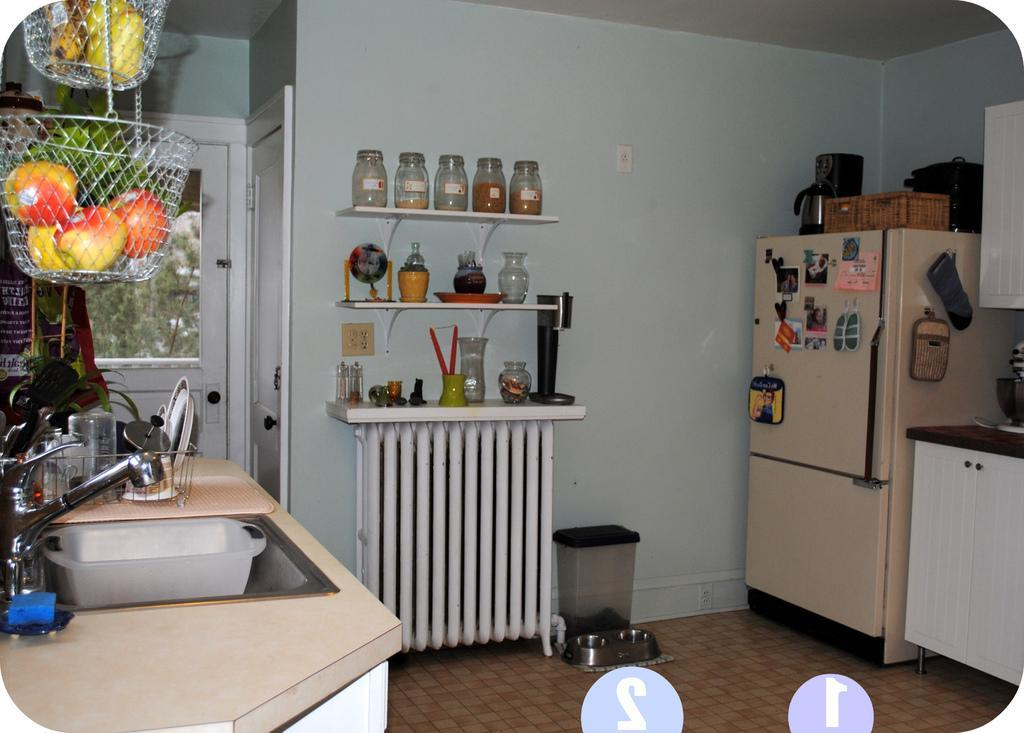door: (90, 154, 230, 436), (242, 121, 288, 470)
handle: (202, 384, 224, 416), (258, 410, 274, 440)
